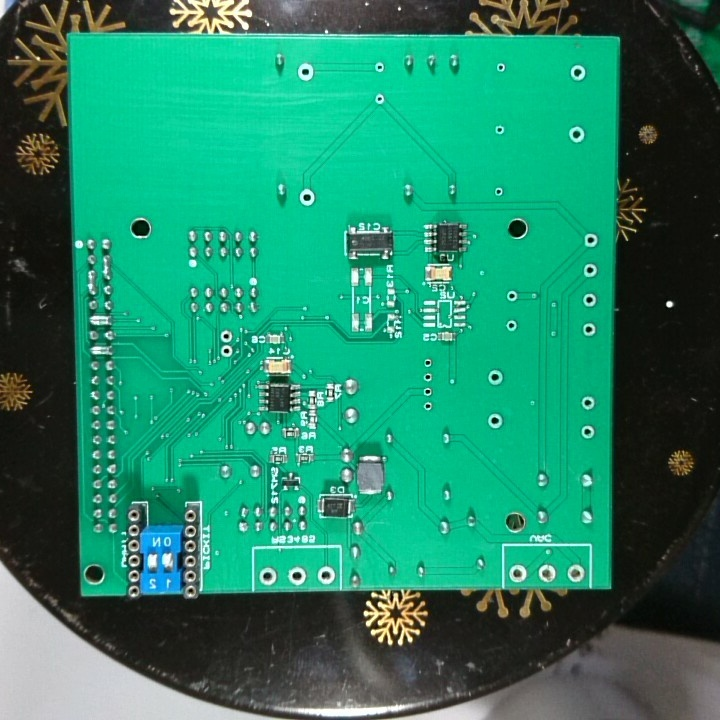F: (567, 61, 589, 86), (565, 561, 587, 586), (314, 563, 337, 586), (296, 60, 318, 84), (537, 562, 559, 586), (296, 186, 317, 211), (506, 563, 531, 584), (565, 123, 587, 146), (285, 564, 308, 586), (257, 565, 279, 587), (580, 260, 601, 281), (582, 230, 602, 252), (486, 367, 506, 389), (580, 289, 600, 309), (579, 423, 599, 443), (580, 320, 599, 339), (578, 393, 597, 412), (486, 412, 504, 432), (503, 317, 522, 335), (217, 343, 236, 360), (371, 58, 388, 77), (371, 89, 388, 108), (218, 327, 235, 345), (491, 182, 507, 200), (419, 399, 437, 415), (504, 288, 520, 306), (492, 121, 508, 138), (420, 383, 435, 399), (421, 355, 436, 370), (421, 369, 436, 384), (493, 60, 507, 76)
P: (85, 312, 116, 328), (85, 343, 117, 358), (83, 267, 99, 297), (99, 251, 114, 281)
